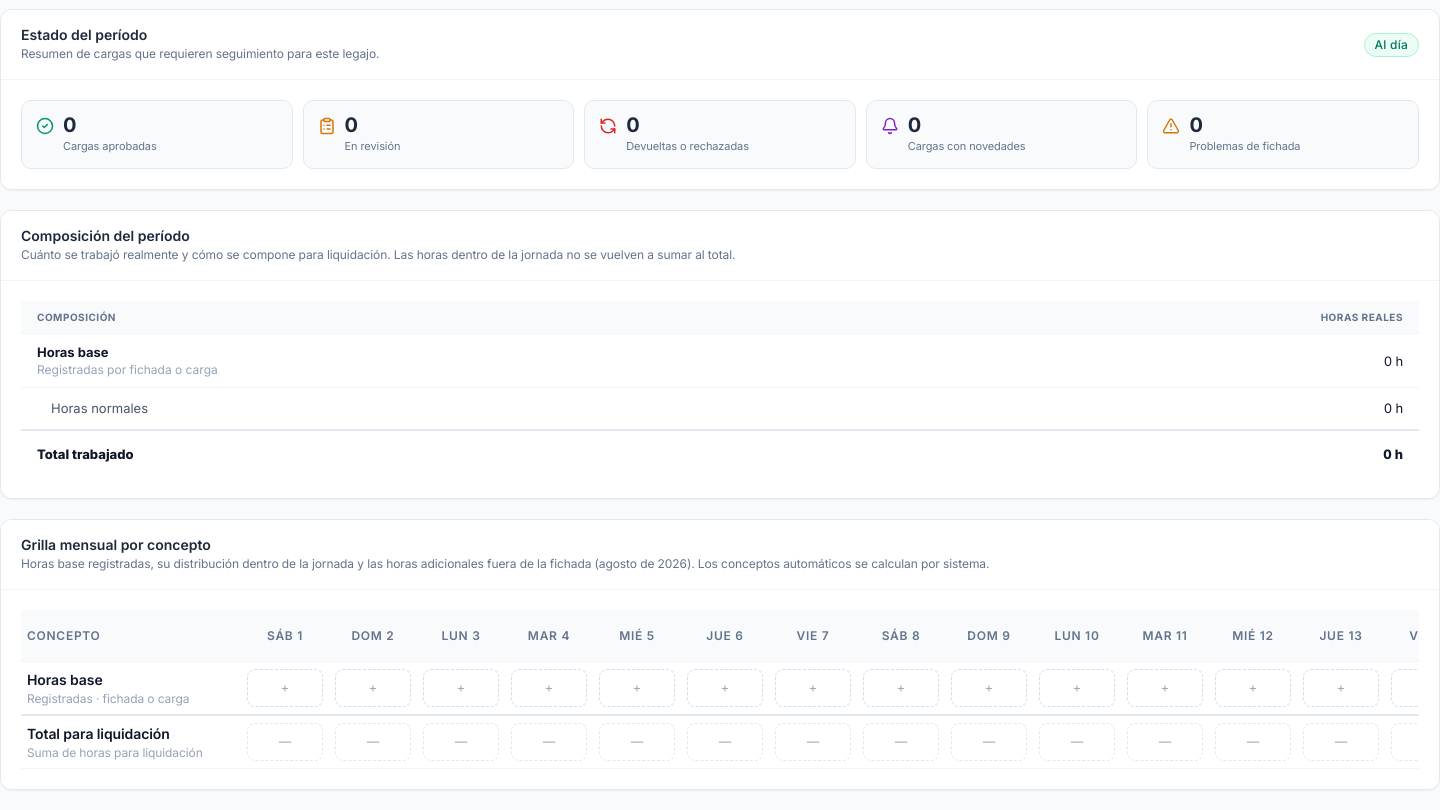
Test: EmployeeHoursPage — flujo de aprobación por rol en carga manual (Etapa 6L.3) › RRHH ve una única acción 'Guardar' y no 'Enviar a revisión' en el modal de Hora normal
The image size is (1440, 810).
(page scrolled)
Step 1. Click the 1st button "+" → (285,688), box [247,669,323,707]
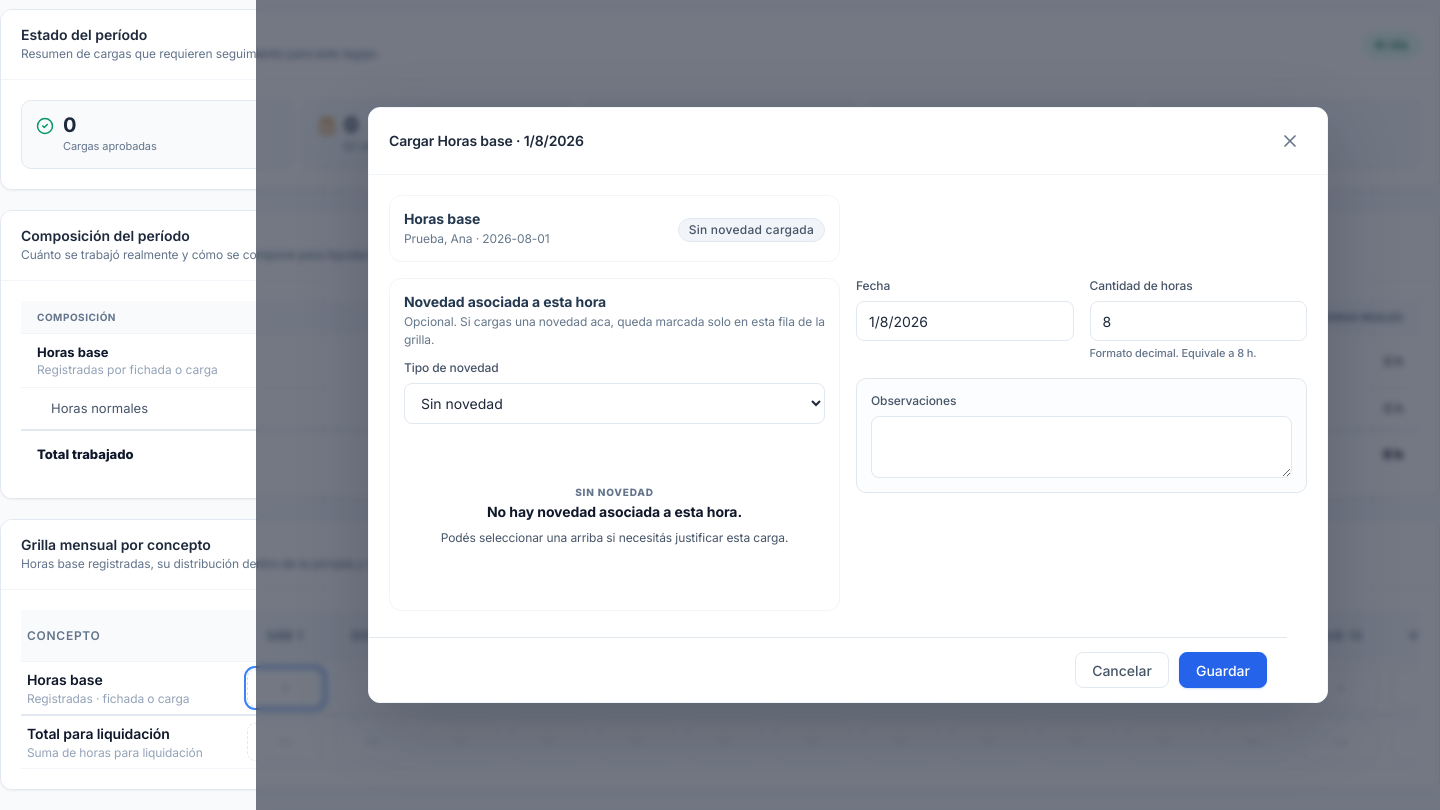
Now the button "Guardar" is shown, box [1179,652,1267,688]
